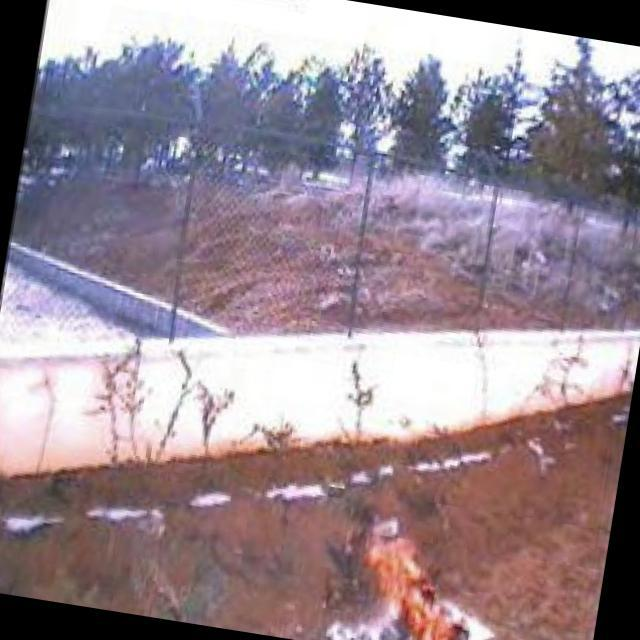Fire: (342, 513, 506, 640)
